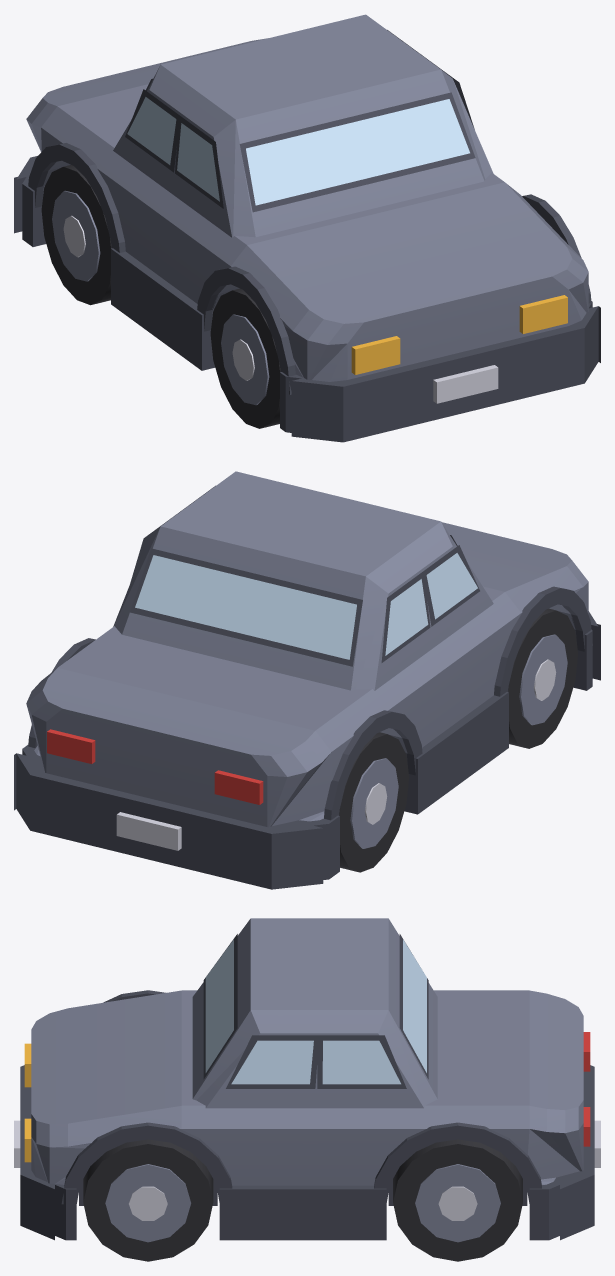
The model's file is grey-sedan.glb.
The picture shows the model from 3 angles, top to bottom: view 1: azimuth 30°, elevation 25°; view 2: azimuth 150°, elevation 25°; view 3: azimuth 270°, elevation 25°; orthographic projection. The views are drawn at different scales.
Parts seen in each view (by area): view 1: shoulder, cabin, bumper-front, windows, lower, tire (×2), skirt (×3), flare (×3), window-frames, rim (×2), headlight (×2), plate (+2 smaller); view 2: shoulder, cabin, lower, bumper-back, windows, skirt (×3), tire (×2), flare (×2), window-frames, rim (×2), taillight (×2), plate (+2 smaller); view 3: shoulder, cabin, tire (×2), lower, skirt (×3), windows, rim (×2), flare (×2), window-frames, bumper-back, bumper-front, hub (×2).
Boxes of the visible parts, x1=… form: shoulder: x1=26, y1=38, x2=588, y2=344; cabin: x1=113, y1=14, x2=493, y2=237; bumper-front: x1=291, y1=306, x2=600, y2=442; windows: x1=127, y1=97, x2=469, y2=205; lower: x1=26, y1=119, x2=588, y2=381; tire (×2): x1=41, y1=165, x2=280, y2=428; skirt (×3): x1=22, y1=169, x2=592, y2=432; flare (×3): x1=28, y1=143, x2=591, y2=394; window-frames: x1=125, y1=30, x2=475, y2=212; rim (×2): x1=52, y1=190, x2=269, y2=405; headlight (×2): x1=351, y1=295, x2=567, y2=374; plate: x1=433, y1=365, x2=498, y2=403; shoulder: x1=26, y1=522, x2=588, y2=776; cabin: x1=113, y1=471, x2=493, y2=690; lower: x1=26, y1=582, x2=588, y2=827; bumper-back: x1=14, y1=753, x2=323, y2=889; windows: x1=135, y1=553, x2=477, y2=659; skirt (×3): x1=22, y1=629, x2=592, y2=879; tire (×2): x1=339, y1=608, x2=577, y2=872; flare (×2): x1=324, y1=586, x2=592, y2=820; window-frames: x1=130, y1=485, x2=479, y2=666; rim (×2): x1=350, y1=634, x2=567, y2=848; taillight (×2): x1=47, y1=729, x2=263, y2=804; plate: x1=116, y1=812, x2=181, y2=850; shoulder: x1=31, y1=990, x2=583, y2=1147; cabin: x1=192, y1=918, x2=437, y2=1108; tire (×2): x1=83, y1=1139, x2=522, y2=1261; lower: x1=31, y1=1123, x2=583, y2=1185; skirt (×3): x1=31, y1=1170, x2=583, y2=1240; windows: x1=205, y1=939, x2=426, y2=1084; rim (×2): x1=105, y1=1164, x2=500, y2=1242; flare (×2): x1=61, y1=1122, x2=541, y2=1204; window-frames: x1=203, y1=934, x2=428, y2=1088; bumper-back: x1=560, y1=1065, x2=594, y2=1240; bumper-front: x1=20, y1=1065, x2=54, y2=1240; hub (×2): x1=128, y1=1186, x2=477, y2=1220.
Bounding box in the file's own units: 1.5 × 1.18 × 2.71.
